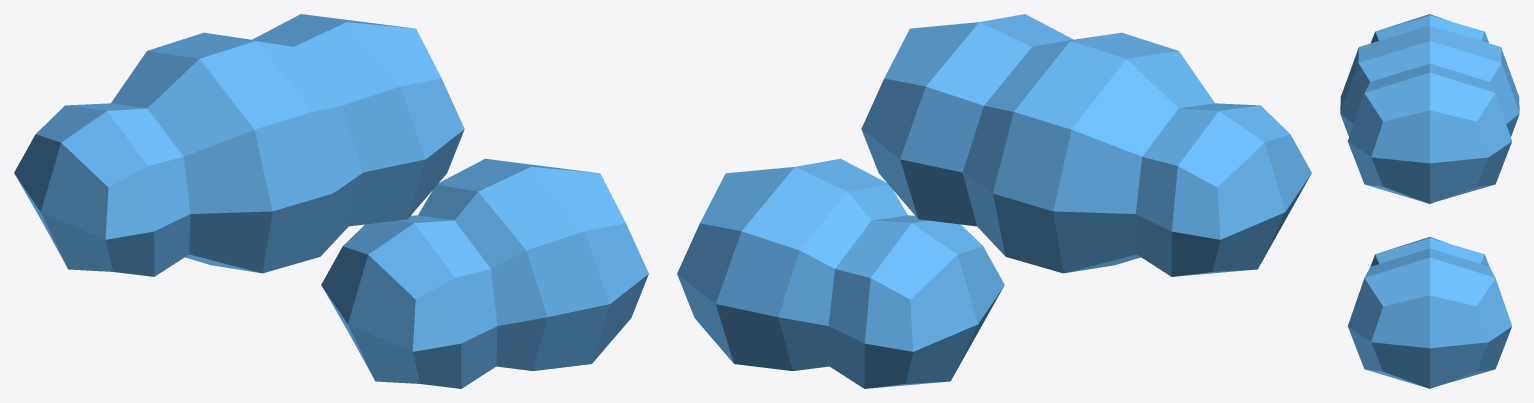
Rendered from cloud2.fbx.
3 views of the same model, side by side, from view 1: azimuth 30°, elevation 25°; view 2: azimuth 150°, elevation 25°; view 3: azimuth 270°, elevation 25° (orthographic). The views are drawn at different scales.
Visible parts, largest first — view 1: cloud2; view 2: cloud2; view 3: cloud2.
Boxes of the visible parts, box(x1,y1,x2,y2) form: cloud2: box(14, 14, 648, 388); cloud2: box(677, 14, 1311, 388); cloud2: box(1340, 14, 1519, 388).
Bounding box in the file's own units: 3.92 × 2.47 × 1.58.
